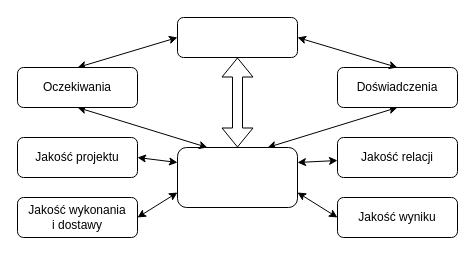
Image size: 475x255. Some labels were removed from this diagram. The centre of each missing label's shape, as x and y in pixels:
Uświadomiona jakość konsumencka: [237,177]
Wizerunek: [237,37]
